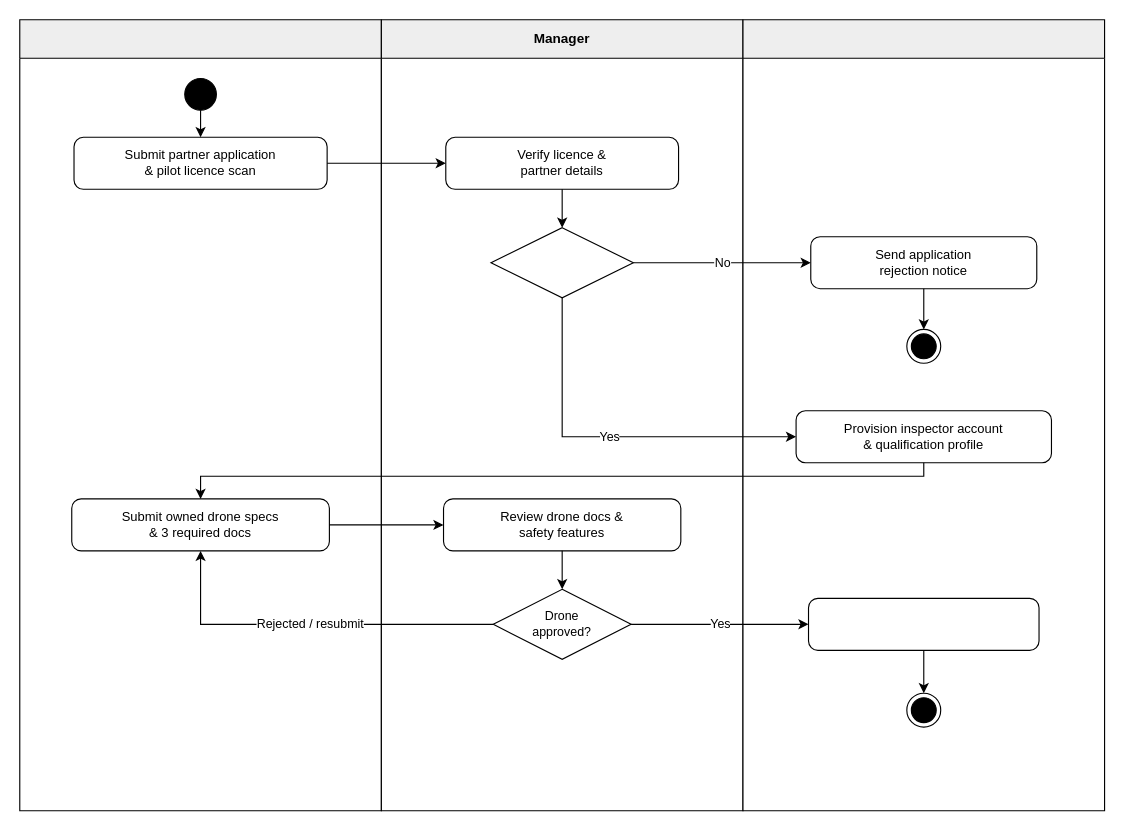
The diagram is 1124 pixels wide and 831 high, and some of its shapes have lost their labels. The box of each missing label's shape, as (x1, y1, x2, y2) in pixels:
Activate drone in dispatch pool: (807, 597, 1039, 650)
Application approved?: (490, 227, 633, 298)
Inspector: (19, 19, 381, 811)
System: (742, 19, 1105, 811)
